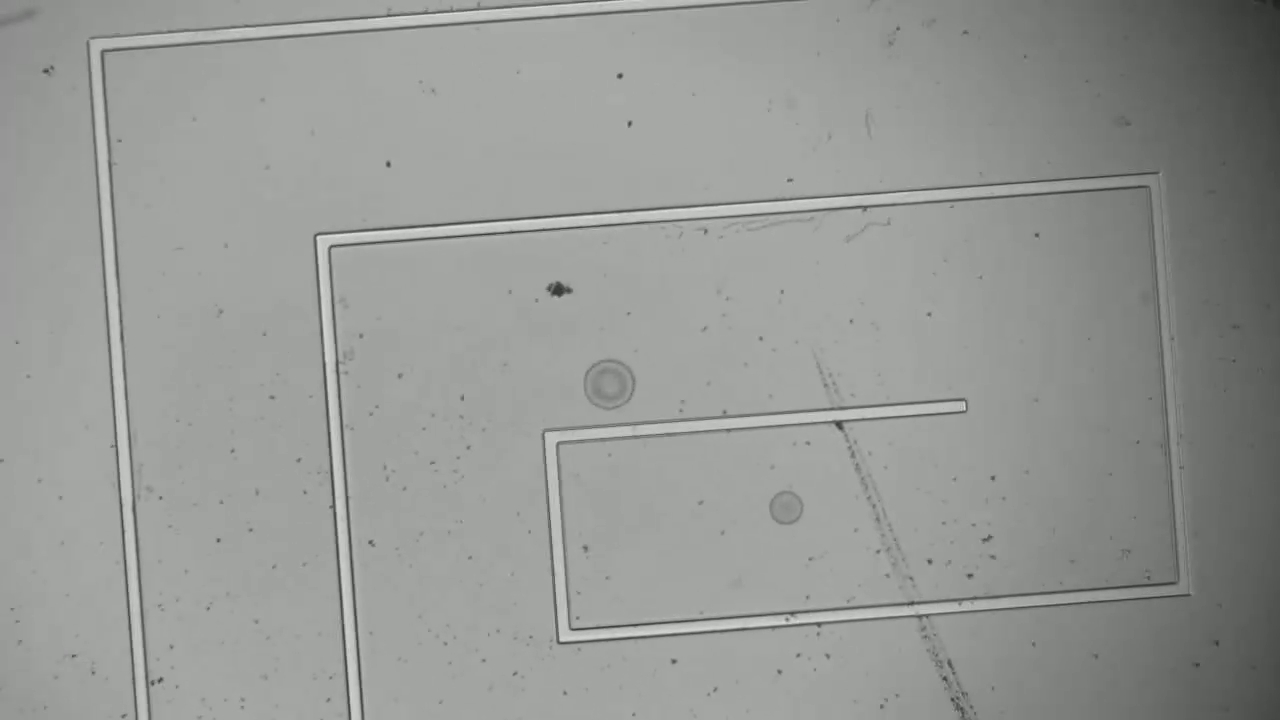scratch: (812, 354, 987, 719)
